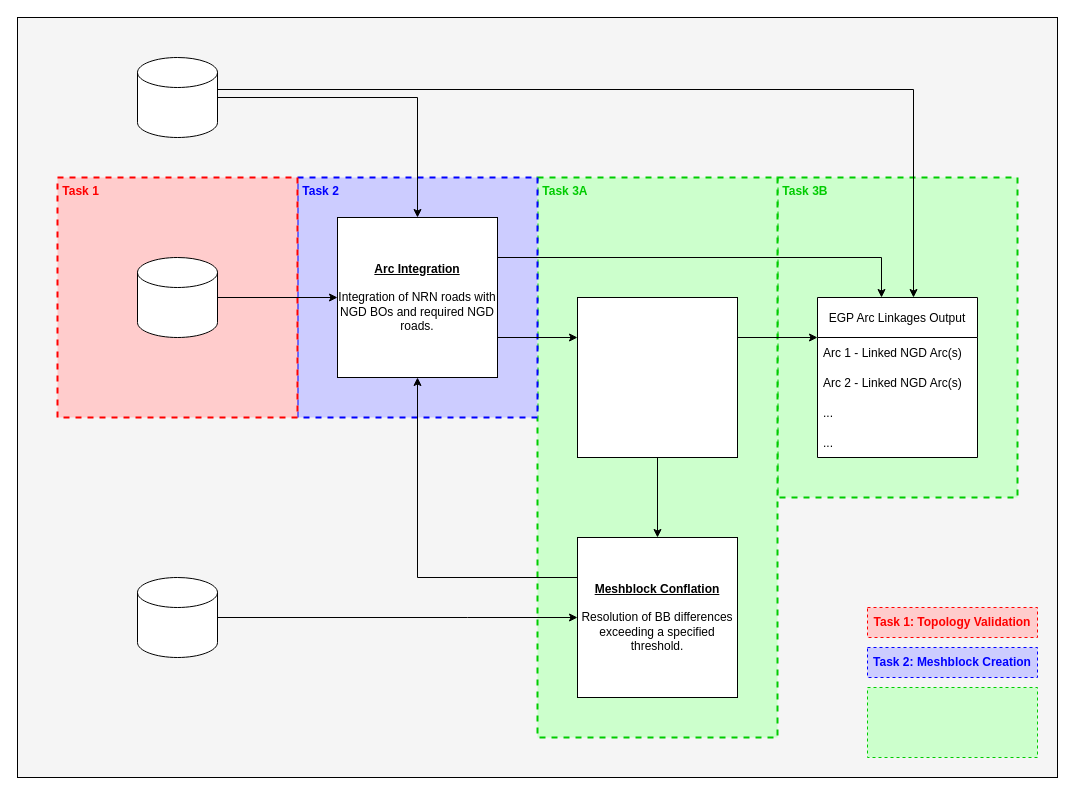
The diagram is 1075 pixels wide and 795 high, and some of its shapes have lost their labels. The centre of each missing label's shape, as x and y in pixels:
EGP Meshblock Output: point (657, 377)
NGD_A: point (177, 617)
NGD_AL: point (177, 97)
NRN Roads: point (177, 297)
Task 3: Network Conflation 3A: Meshblock Conflation 3B: Arc Conflation: point (952, 722)
